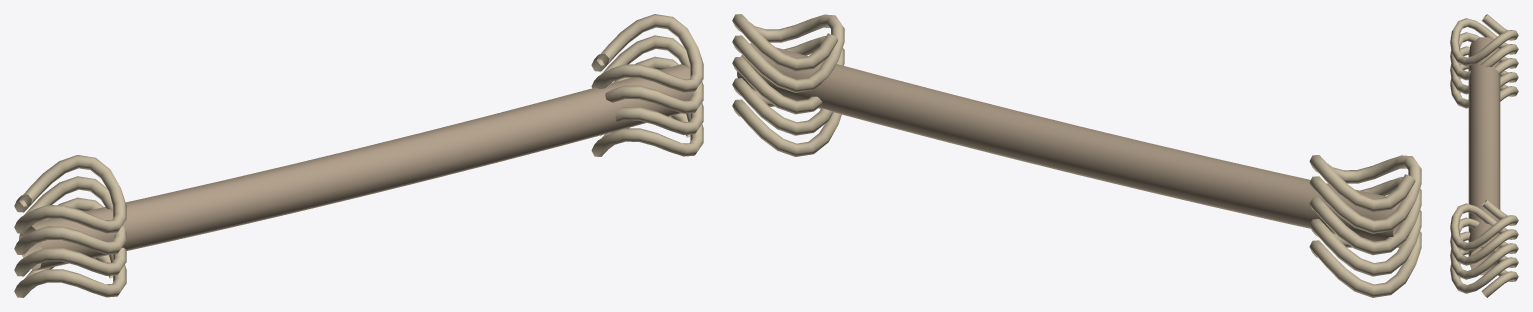
Rendered from ladder_rung.glb.
3 renders of one model, left to right at view 1: azimuth 30°, elevation 25°; view 2: azimuth 150°, elevation 25°; view 3: azimuth 270°, elevation 25°, orthographic. The views are drawn at different scales.
Parts seen in each view (by area): view 1: Rung; view 2: Rung; view 3: Rung.
Boxes of the visible parts, bbox=[...] form: Rung: bbox=[14, 14, 703, 297]; Rung: bbox=[732, 14, 1421, 297]; Rung: bbox=[1450, 14, 1518, 297].
Size of the model in its own units: 0.517 by 0.0897 by 0.069.
